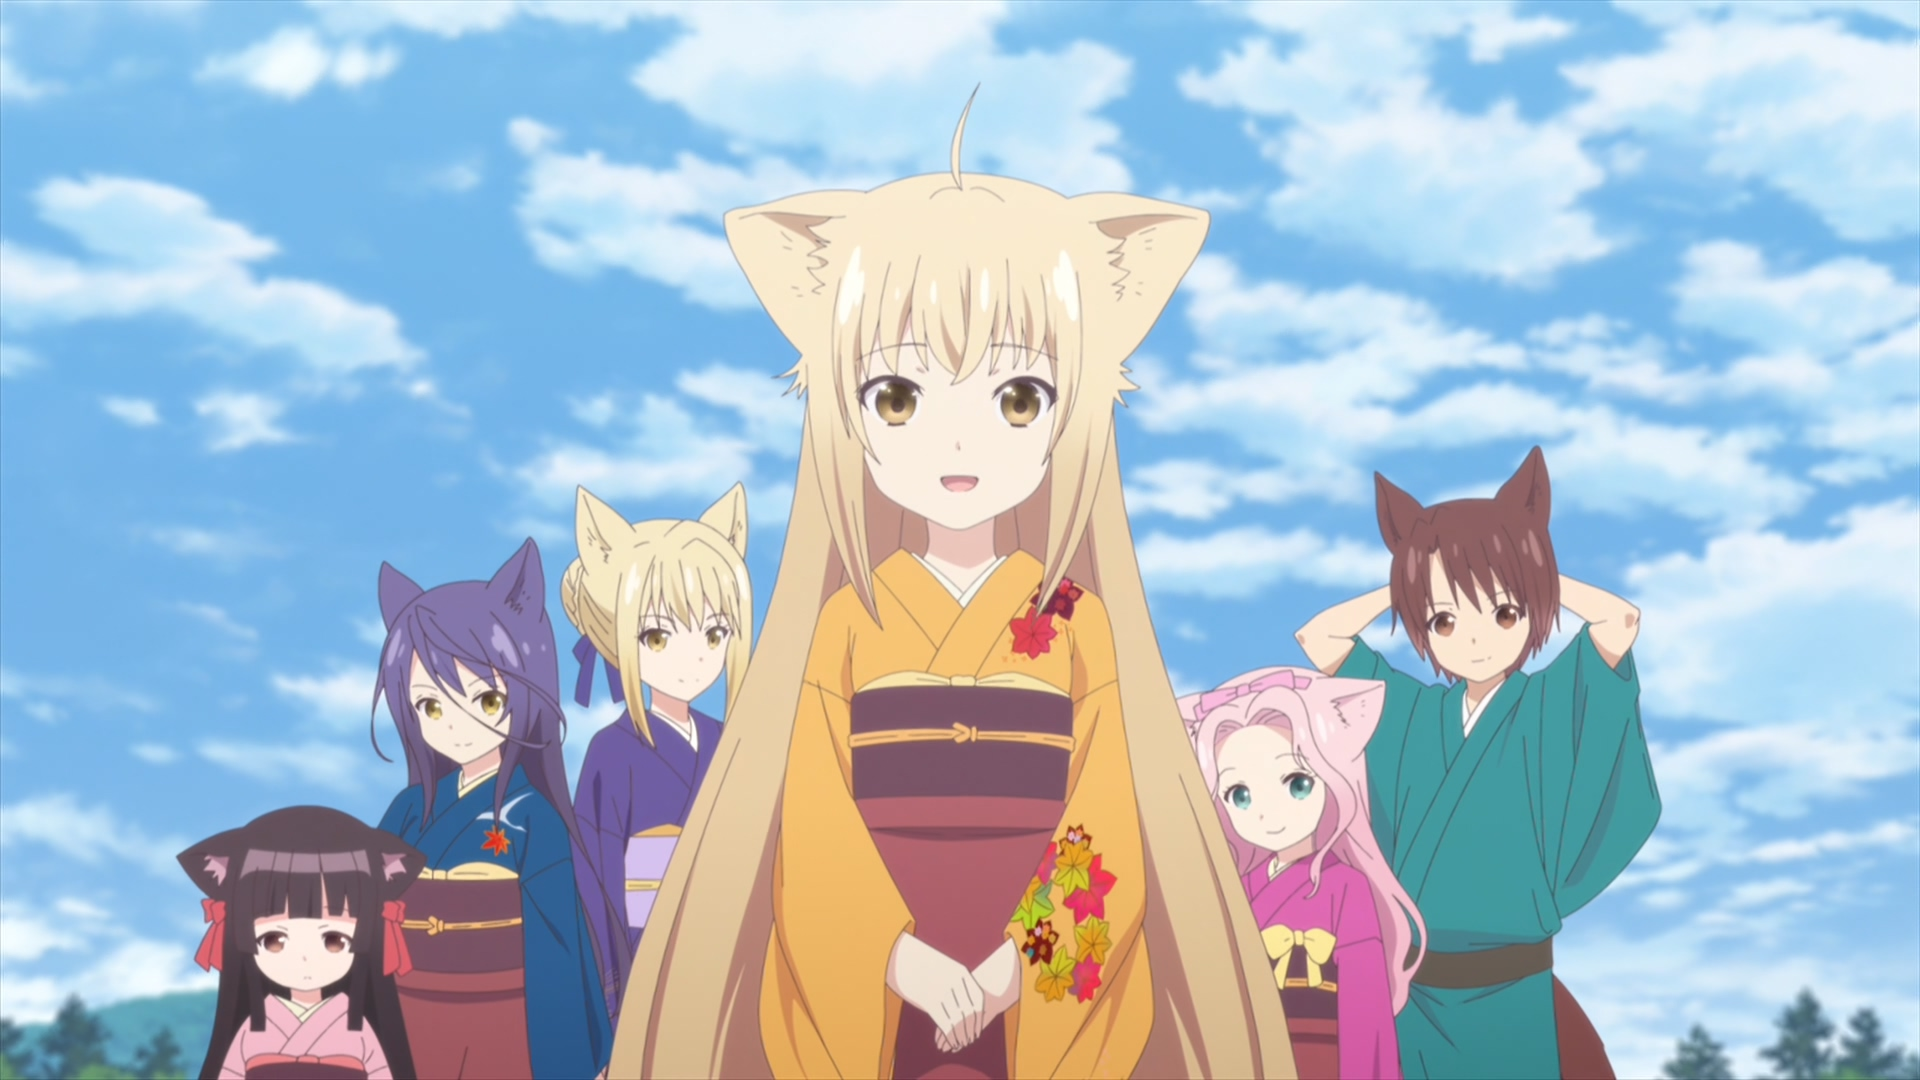枣: (1294, 446, 1662, 1080)
柚: (609, 82, 1299, 1080)
桐: (559, 487, 756, 1035)
樱: (179, 806, 425, 1080)
皋: (371, 535, 615, 1080)
莲: (1175, 669, 1427, 1080)
